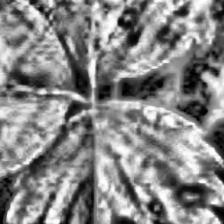Leaf Spot: (2, 98, 224, 224), (0, 0, 224, 88), (0, 0, 76, 193)
